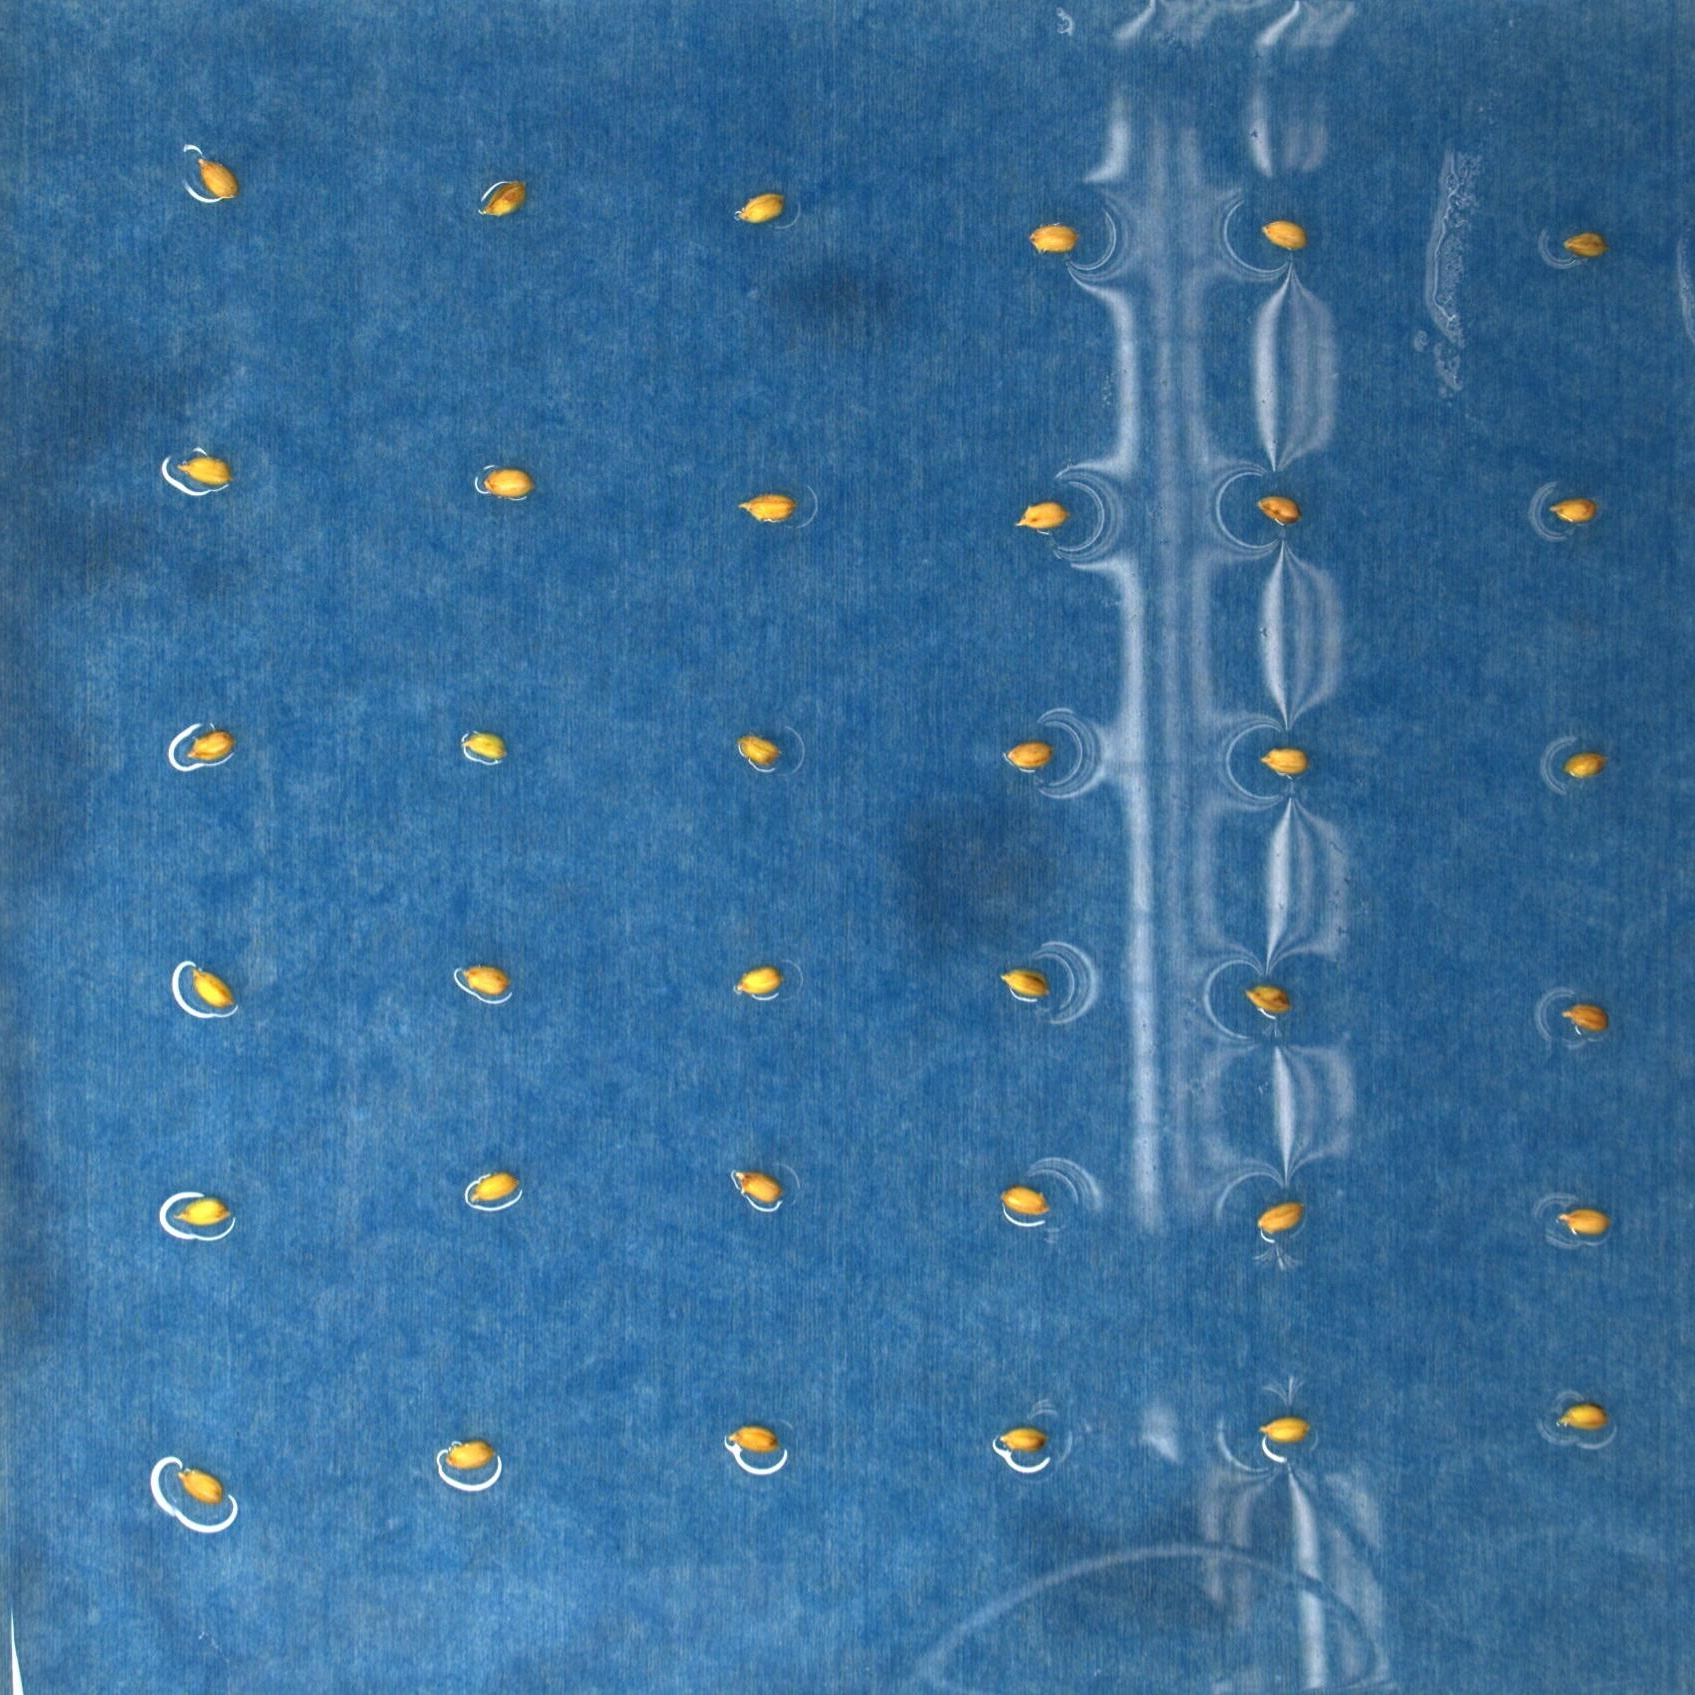not sprout: (174, 452, 237, 487), (1012, 498, 1077, 532), (191, 964, 239, 1007), (177, 1464, 227, 1506), (467, 1170, 525, 1206), (737, 492, 799, 525), (174, 1194, 234, 1226), (481, 466, 539, 500), (197, 155, 241, 200), (1257, 744, 1313, 778), (726, 1423, 787, 1454), (998, 965, 1055, 998), (444, 1437, 498, 1471), (478, 179, 528, 216), (186, 728, 237, 764), (1259, 1414, 1315, 1447), (1000, 1184, 1052, 1218), (734, 1167, 782, 1205), (734, 964, 785, 998), (1558, 1208, 1617, 1237), (1557, 1402, 1613, 1433), (737, 731, 785, 767), (1256, 1198, 1305, 1232), (1560, 750, 1614, 781), (1558, 1001, 1613, 1032), (995, 1426, 1049, 1458), (737, 191, 789, 224), (459, 728, 511, 761), (463, 964, 514, 997), (1256, 494, 1304, 526), (1006, 739, 1057, 768), (1028, 224, 1080, 251), (1245, 984, 1293, 1014), (1551, 497, 1600, 525), (1263, 217, 1310, 247), (1562, 230, 1610, 258)
